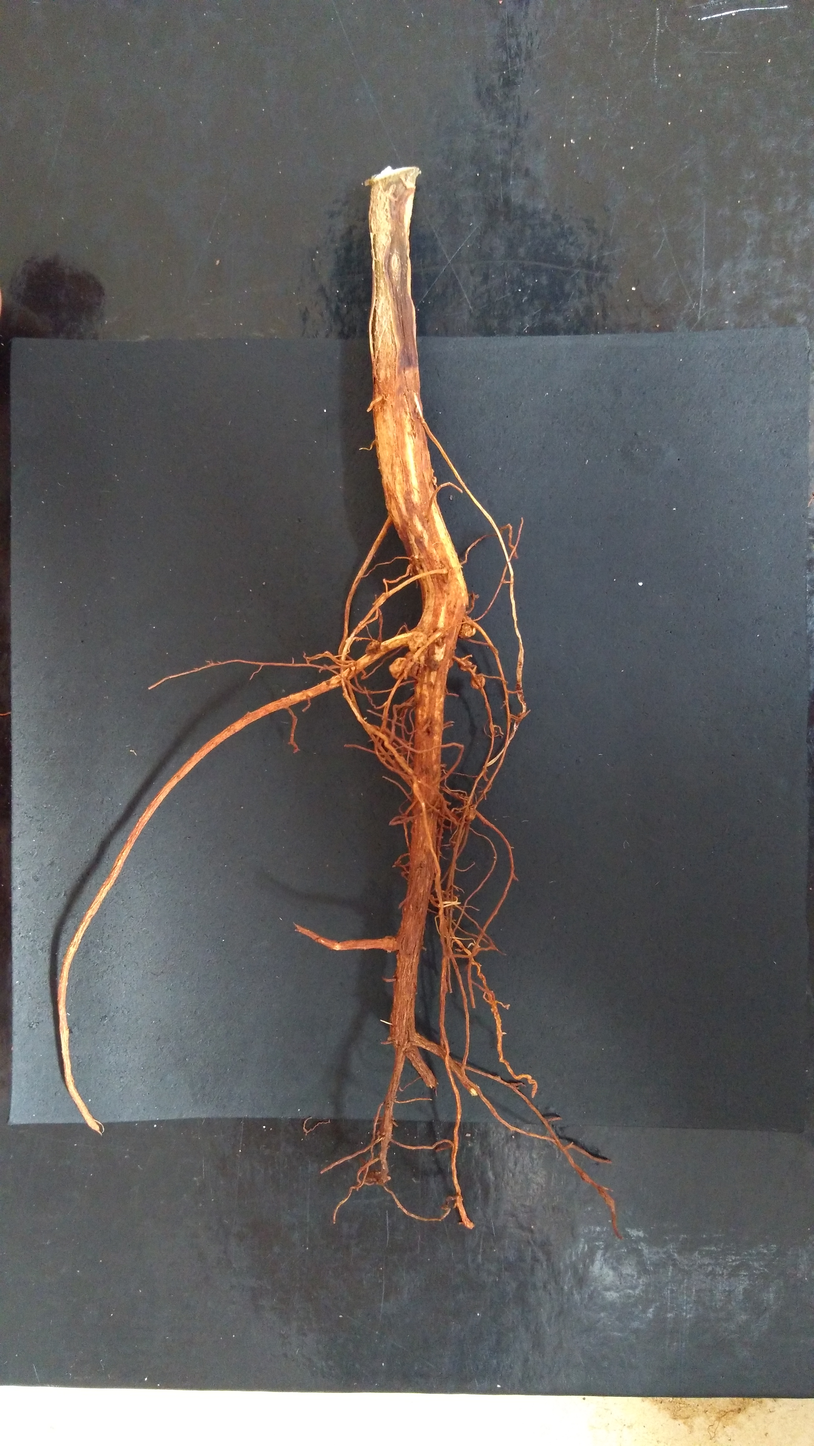nodule: (403, 649, 425, 681), (387, 656, 407, 680), (407, 631, 429, 652), (457, 619, 478, 640), (469, 673, 487, 691), (364, 639, 381, 655), (426, 656, 441, 672), (457, 658, 474, 672), (464, 807, 477, 824)
